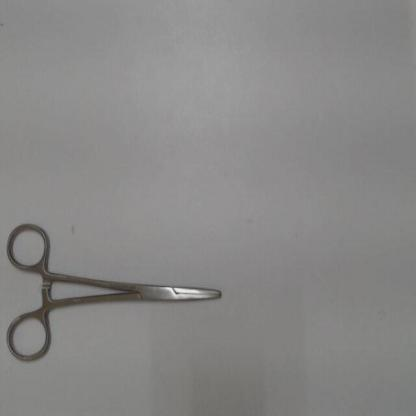Mayo Needle Holder: (2, 216, 237, 372)
